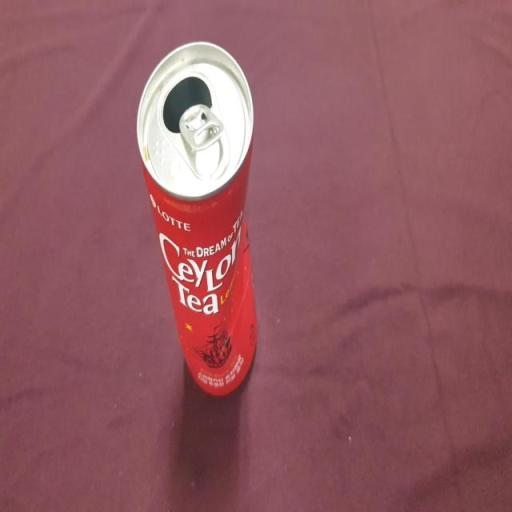metal: (112, 6, 292, 458)
